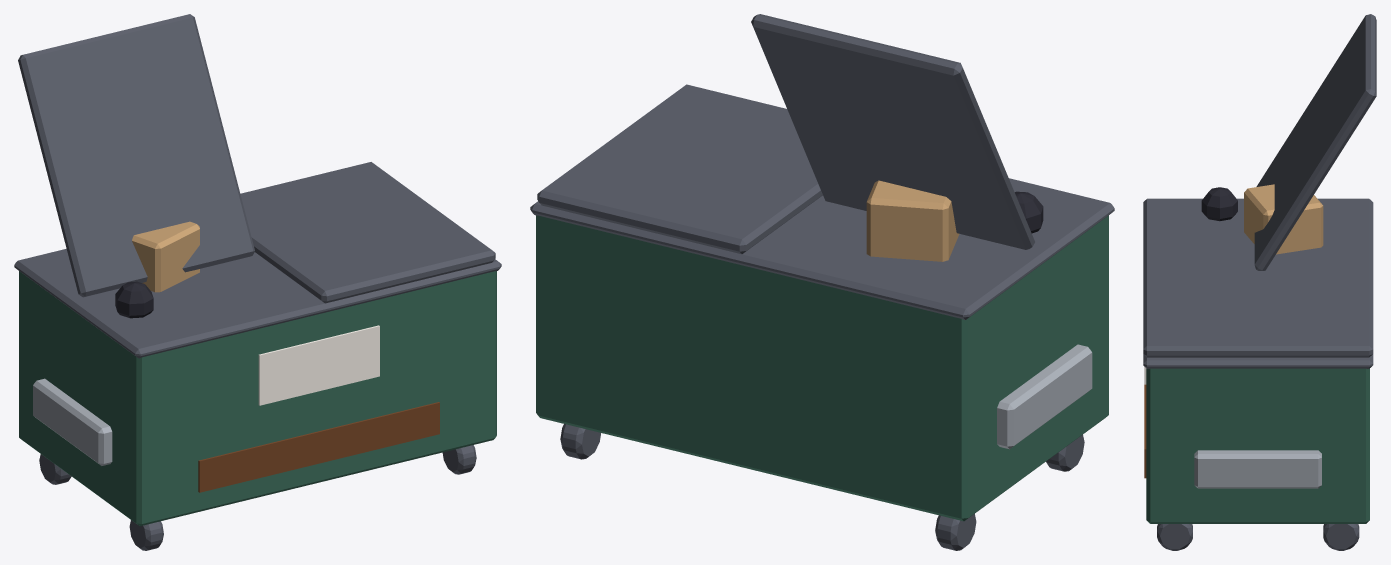
File: CatCafe_Alley_Dumpster.fbx
3 renders of one model, left to right at view 1: azimuth 30°, elevation 25°; view 2: azimuth 150°, elevation 25°; view 3: azimuth 270°, elevation 25°, orthographic. The views are drawn at different scales.
Parts seen in each view (by area): view 1: CatCafe_Alley_Dumpster; view 2: CatCafe_Alley_Dumpster; view 3: CatCafe_Alley_Dumpster.
Part boxes in pixels (bbox=[...]): CatCafe_Alley_Dumpster: bbox=[14, 14, 501, 550]; CatCafe_Alley_Dumpster: bbox=[530, 14, 1114, 550]; CatCafe_Alley_Dumpster: bbox=[1143, 14, 1376, 550].
Size of the model in its own units: 6.4 by 6.67 by 3.66.
Materials: 1 (1 with a texture image).
